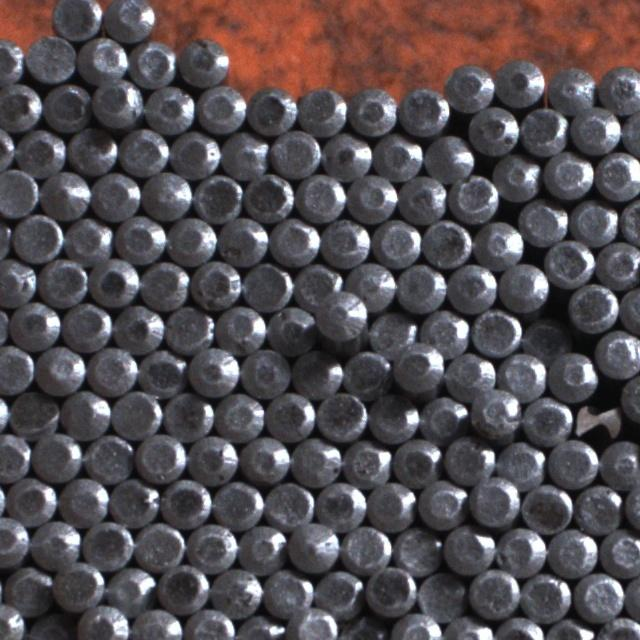tool: (444, 60, 496, 113), (398, 84, 450, 136), (364, 565, 415, 618), (158, 563, 211, 614), (23, 32, 76, 83), (519, 480, 570, 532), (29, 518, 80, 570), (467, 104, 518, 156), (291, 351, 343, 402), (318, 296, 368, 349), (544, 235, 594, 288), (421, 217, 472, 268), (520, 570, 571, 621), (442, 525, 493, 576), (30, 430, 81, 481), (468, 567, 519, 618), (316, 389, 367, 440), (53, 561, 104, 612), (499, 260, 549, 312), (566, 280, 616, 332), (134, 431, 184, 483), (469, 476, 519, 528), (192, 172, 242, 224), (88, 256, 138, 308), (244, 172, 294, 224), (82, 518, 134, 568), (444, 350, 496, 400), (393, 345, 443, 397), (574, 571, 624, 622), (519, 104, 569, 155), (547, 437, 597, 488), (546, 526, 596, 577), (347, 85, 397, 136), (496, 58, 546, 109), (191, 259, 241, 310), (397, 173, 447, 224), (289, 520, 340, 570), (346, 172, 396, 223), (416, 478, 466, 529), (496, 526, 546, 577), (108, 476, 159, 526), (343, 348, 393, 399), (318, 217, 368, 267), (446, 262, 496, 312), (218, 215, 268, 265), (240, 347, 290, 397), (142, 170, 192, 220), (188, 345, 238, 395), (340, 523, 390, 573), (520, 394, 570, 444), (243, 260, 293, 310), (216, 302, 266, 352), (113, 302, 163, 352), (110, 388, 160, 438), (292, 436, 342, 486), (167, 128, 217, 178), (296, 84, 346, 134), (187, 434, 237, 484), (392, 436, 442, 486), (9, 300, 59, 350), (321, 131, 371, 181), (268, 302, 318, 352), (546, 350, 596, 400), (470, 387, 520, 437), (138, 346, 188, 396), (470, 306, 521, 355), (41, 169, 90, 220), (317, 479, 366, 530), (442, 435, 491, 486), (393, 524, 442, 574), (573, 484, 622, 534), (543, 150, 593, 199), (13, 212, 62, 262), (145, 84, 194, 134), (417, 570, 466, 620), (372, 132, 422, 181), (88, 344, 138, 393), (117, 126, 166, 176), (90, 171, 139, 221), (264, 480, 314, 529), (212, 567, 262, 616), (83, 433, 132, 483), (215, 390, 264, 440), (38, 256, 88, 305), (295, 172, 344, 222), (167, 214, 216, 264), (115, 213, 164, 263), (196, 83, 245, 133), (42, 82, 91, 132), (162, 390, 212, 439), (492, 152, 542, 201), (474, 218, 524, 267), (367, 478, 416, 528), (67, 124, 116, 174), (134, 520, 183, 570), (140, 260, 190, 309), (92, 78, 142, 127), (239, 434, 288, 484), (59, 389, 109, 438), (61, 300, 110, 350), (368, 393, 418, 442), (420, 307, 469, 357), (161, 478, 211, 527), (424, 133, 474, 182), (4, 566, 53, 616), (178, 40, 228, 89), (521, 310, 571, 359), (164, 301, 212, 352), (548, 62, 596, 113), (578, 397, 630, 444), (269, 217, 318, 266), (347, 260, 396, 309), (219, 130, 268, 179), (213, 479, 262, 528), (246, 87, 295, 136), (570, 107, 619, 156), (418, 391, 467, 440), (59, 475, 108, 524), (293, 261, 342, 310), (396, 262, 444, 312), (188, 520, 238, 568), (269, 128, 319, 176), (266, 390, 314, 440), (262, 568, 310, 618), (314, 566, 362, 616), (450, 172, 498, 222), (36, 344, 85, 392), (496, 438, 544, 487), (64, 214, 112, 263), (238, 522, 286, 571), (497, 350, 545, 399), (15, 128, 64, 176), (80, 35, 128, 84), (105, 564, 154, 612), (343, 438, 391, 487), (9, 389, 57, 438), (7, 476, 56, 524), (373, 218, 421, 266), (570, 197, 618, 245), (518, 198, 566, 246), (128, 38, 176, 86), (368, 310, 417, 357), (594, 150, 640, 200), (595, 329, 640, 378), (595, 238, 640, 287), (598, 63, 640, 114), (0, 82, 41, 132), (50, 0, 101, 40), (598, 441, 640, 489), (108, 0, 156, 41), (76, 603, 129, 640), (600, 528, 640, 576), (0, 168, 40, 216), (288, 605, 338, 640), (0, 256, 34, 306), (131, 606, 181, 640), (0, 342, 34, 392), (184, 606, 234, 640), (0, 430, 30, 480), (0, 516, 28, 568), (392, 611, 442, 640), (234, 614, 284, 640), (26, 613, 74, 640), (339, 614, 388, 640), (492, 615, 542, 640), (544, 616, 594, 640), (442, 616, 491, 640), (0, 36, 22, 87), (619, 284, 640, 334), (619, 197, 640, 246)
